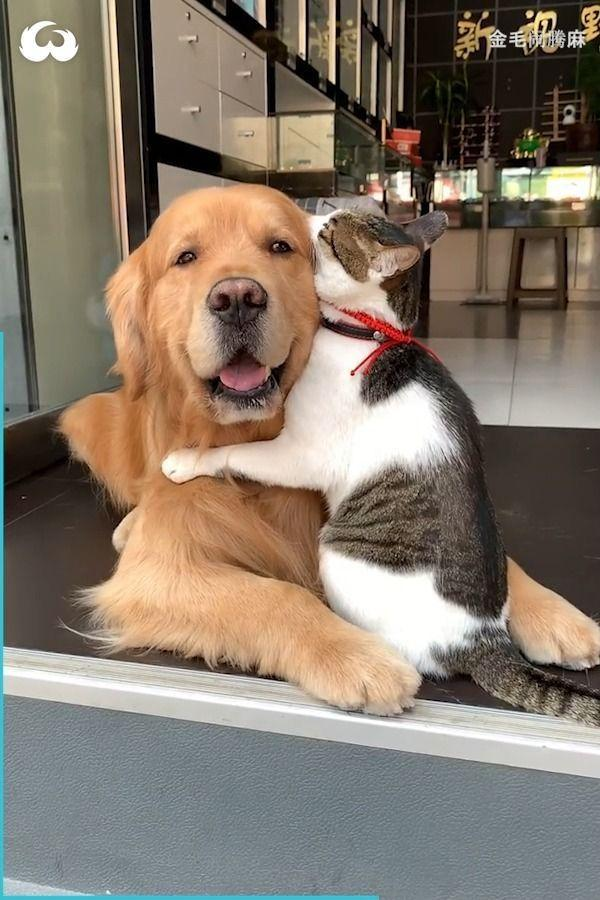kedo: (302, 197, 600, 731)
